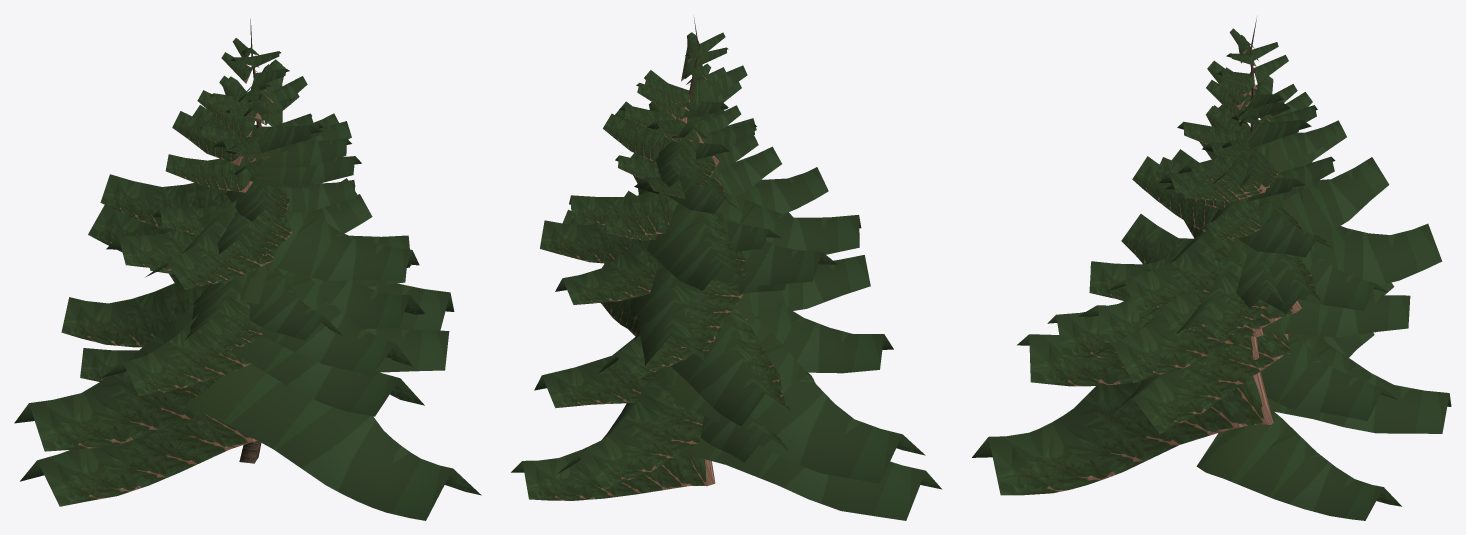
The model's file is Spruce_02.fbx.
3 views of the same model, side by side, from view 1: azimuth 30°, elevation 25°; view 2: azimuth 150°, elevation 25°; view 3: azimuth 270°, elevation 25° (orthographic). The views are drawn at different scales.
Visible parts, largest first — view 1: spruce_2:spruce2_1; view 2: spruce_2:spruce2_1; view 3: spruce_2:spruce2_1.
Part boxes in pixels (left/top/right/bottom): spruce_2:spruce2_1: left=14, top=38, right=481, bottom=520; spruce_2:spruce2_1: left=511, top=32, right=942, bottom=520; spruce_2:spruce2_1: left=972, top=28, right=1451, bottom=520.
Bounding box in the file's own units: 8.4 × 9.65 × 9.23.
Materials: 2 (2 with a texture image).
